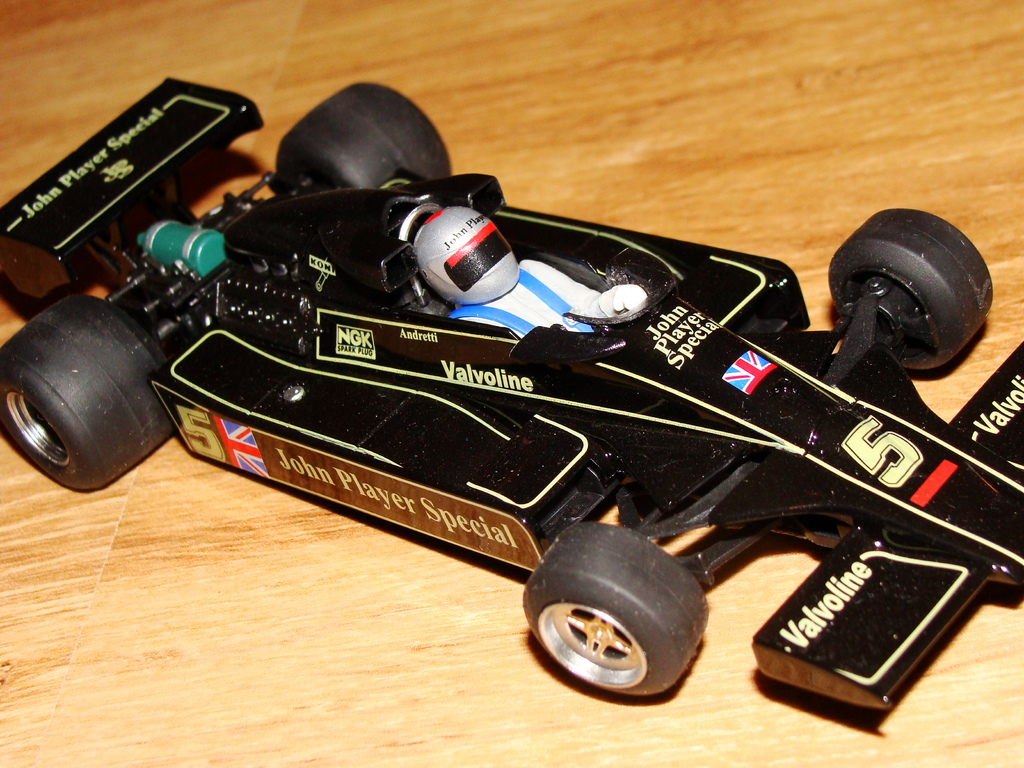Car: (0, 78, 1023, 702)
